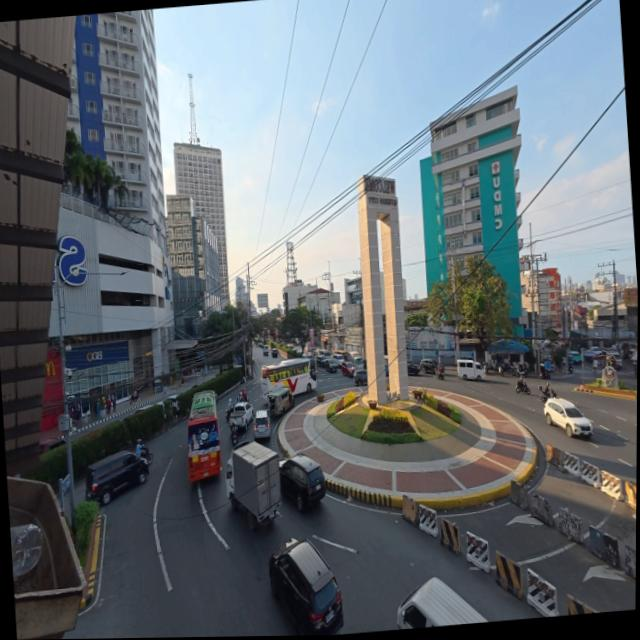Jeepneys: (267, 387, 293, 416)
bus: (187, 391, 221, 482), (260, 358, 315, 397)
car: (268, 539, 342, 635), (396, 578, 486, 629), (84, 451, 148, 505), (279, 454, 324, 511), (544, 398, 592, 437), (253, 409, 270, 439), (39, 438, 65, 453), (418, 359, 436, 374), (605, 354, 621, 369), (321, 358, 336, 373), (164, 394, 178, 410), (353, 370, 366, 387), (340, 362, 354, 377), (133, 404, 153, 414), (406, 362, 419, 376), (568, 351, 581, 363), (589, 347, 601, 357), (315, 354, 324, 366), (270, 348, 276, 358), (262, 348, 267, 356)
motorcycle: (538, 386, 553, 403), (140, 446, 152, 464), (515, 381, 530, 395), (539, 364, 550, 380), (484, 362, 496, 374), (230, 426, 237, 446), (435, 366, 444, 379), (241, 390, 247, 402), (567, 363, 572, 374)
trucks: (225, 442, 279, 529), (229, 402, 252, 431)
vans: (396, 578, 485, 629), (456, 360, 484, 380), (331, 353, 343, 362)
